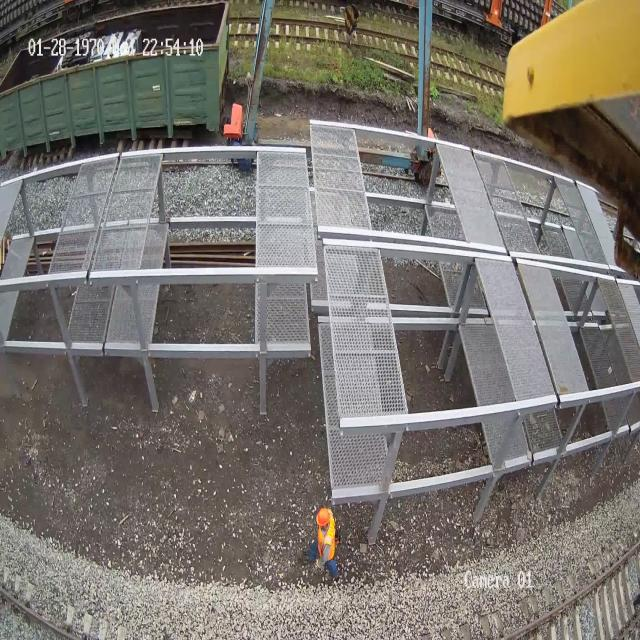Helmet: (316, 508, 329, 528)
Person: (315, 507, 339, 580)
